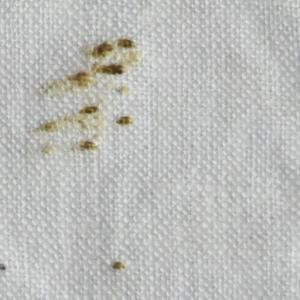Oil Stain: (20, 36, 144, 165), (105, 257, 132, 277)
Stain: (1, 263, 10, 274)
